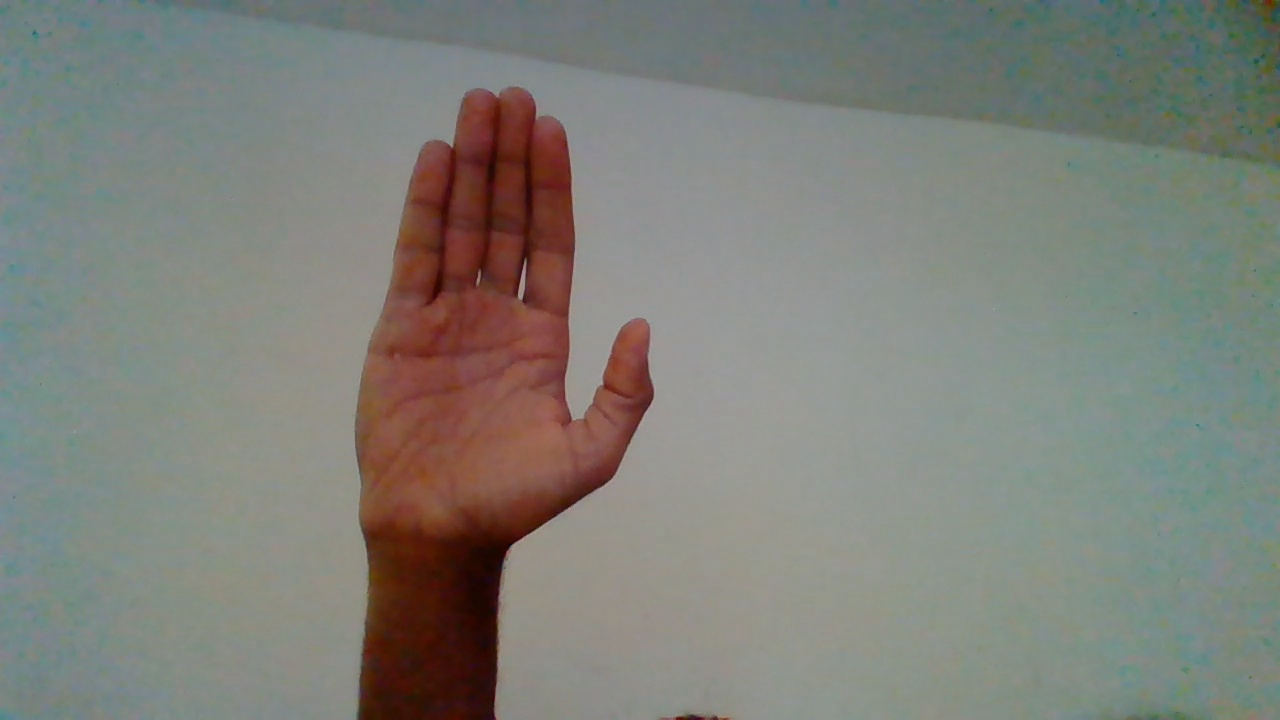ha: (354, 77, 667, 627)
